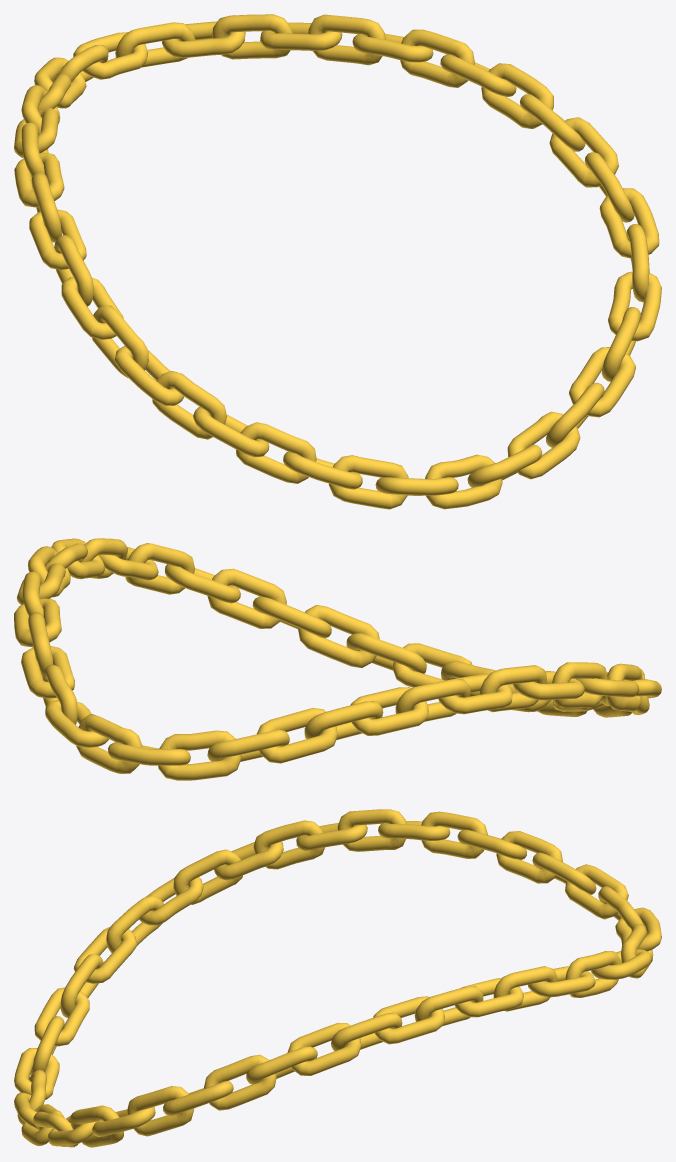
Rendered from Chain.gltf.
The picture shows the model from 3 angles, top to bottom: view 1: azimuth 30°, elevation 25°; view 2: azimuth 150°, elevation 25°; view 3: azimuth 270°, elevation 25°; orthographic projection. The views are drawn at different scales.
Parts seen in each view (by area): view 1: necklace1; view 2: necklace1; view 3: necklace1.
Part boxes in pixels (bbox=[...]): necklace1: bbox=[14, 14, 661, 509]; necklace1: bbox=[14, 538, 661, 780]; necklace1: bbox=[14, 809, 661, 1147].
Size of the model in its own units: 4.02 by 1.69 by 4.58.
